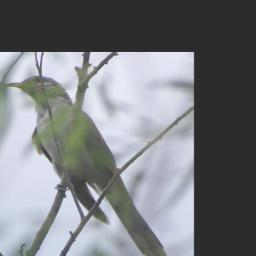Cuckoo: (7, 75, 177, 256)
